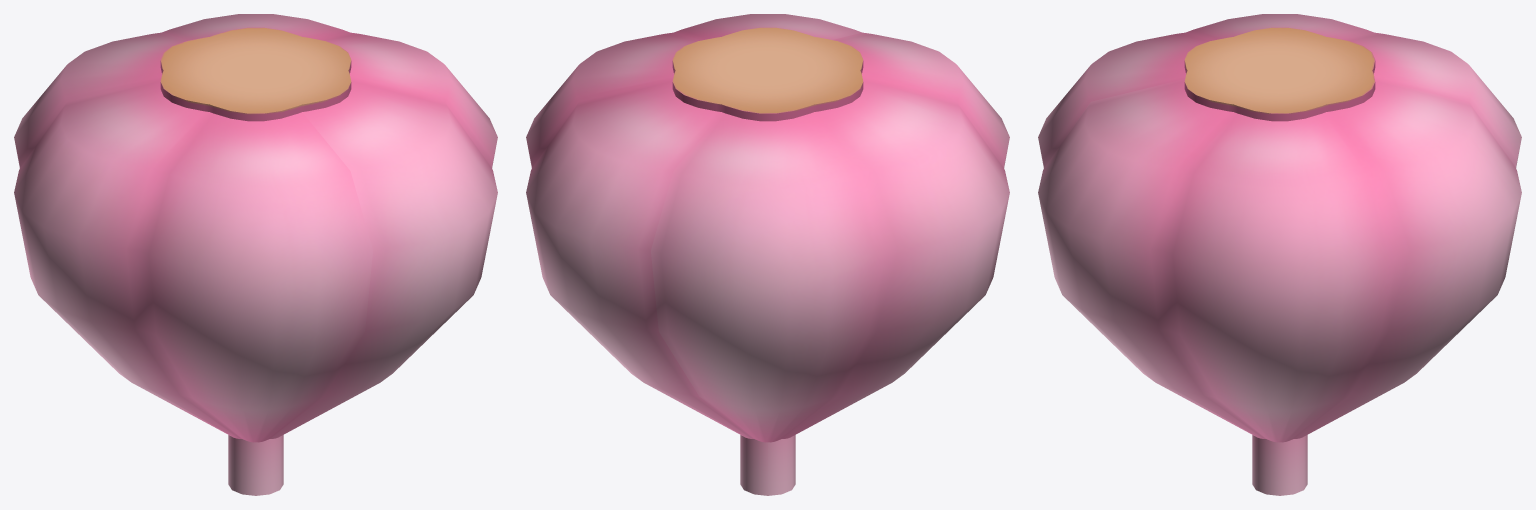
Rendered from ENV1810010.fbx.
The picture shows the model from 3 angles, left to right: view 1: azimuth 30°, elevation 25°; view 2: azimuth 150°, elevation 25°; view 3: azimuth 270°, elevation 25°; orthographic projection.
Visible parts, largest first — view 1: smENV1810010; view 2: smENV1810010; view 3: smENV1810010.
Part boxes in pixels (x1=…): smENV1810010: x1=14, y1=14, x2=497, y2=495; smENV1810010: x1=526, y1=14, x2=1009, y2=495; smENV1810010: x1=1038, y1=14, x2=1521, y2=495.
Bounding box in the file's own units: 6.51 × 5.77 × 6.12.
Materials: 1 (1 with a texture image).
